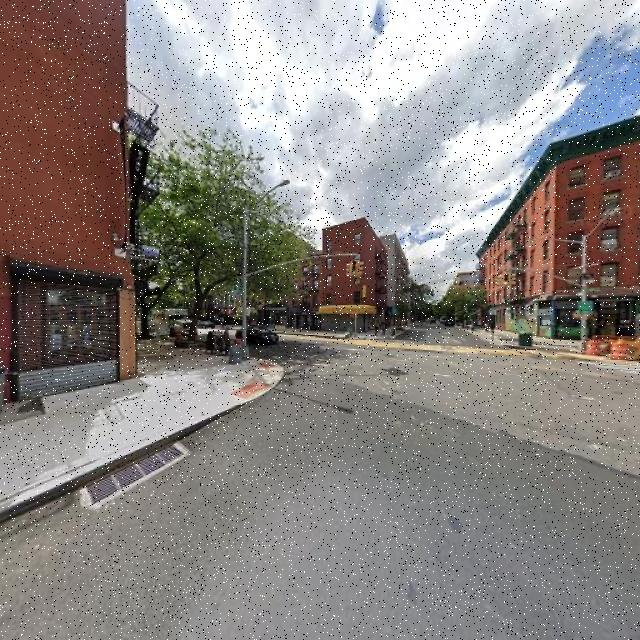Building: (1, 1, 122, 399), (483, 115, 640, 344), (324, 218, 388, 332)
